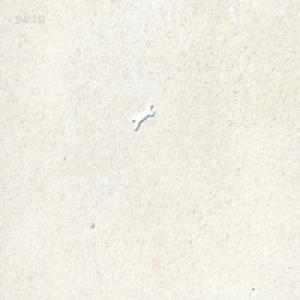Wrench: (131, 103, 153, 131)
